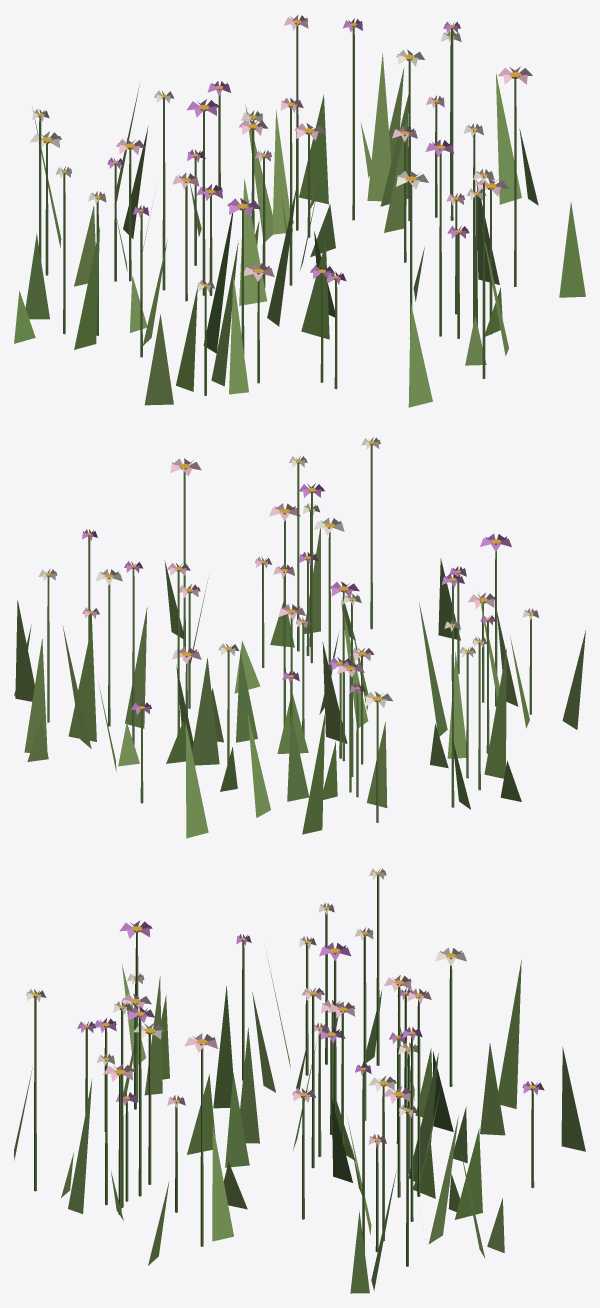
File: flowers-lowpoly.glb
3 renders of one model, top to bottom at view 1: azimuth 30°, elevation 25°; view 2: azimuth 150°, elevation 25°; view 3: azimuth 270°, elevation 25°, orthographic. The views are drawn at different scales.
Visible parts, largest first — view 1: flowers-lowpoly; view 2: flowers-lowpoly; view 3: flowers-lowpoly.
Boxes of the visible parts, x1,y1,x2,y2 form: flowers-lowpoly: (14, 15, 585, 407); flowers-lowpoly: (14, 437, 585, 838); flowers-lowpoly: (14, 868, 585, 1293).
Size of the model in its own units: 1.6 by 0.6136 by 1.53.
